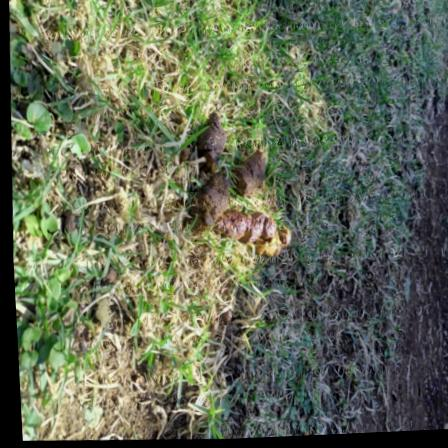dog-poop: (188, 115, 296, 263)
